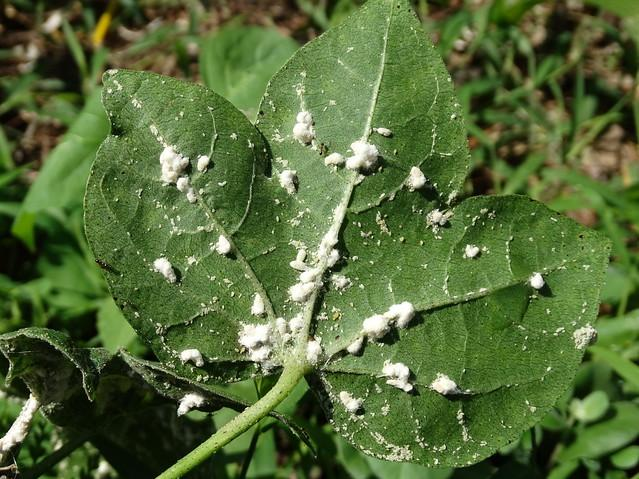pseudococcidae: (107, 47, 606, 449)
